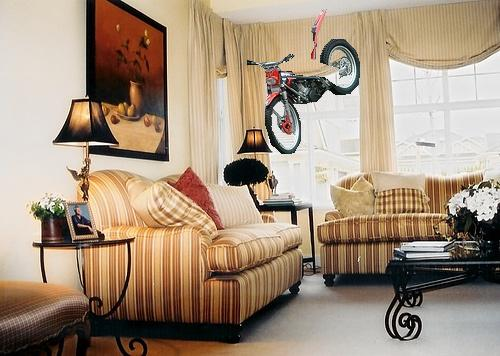tampered: (248, 10, 360, 154)
